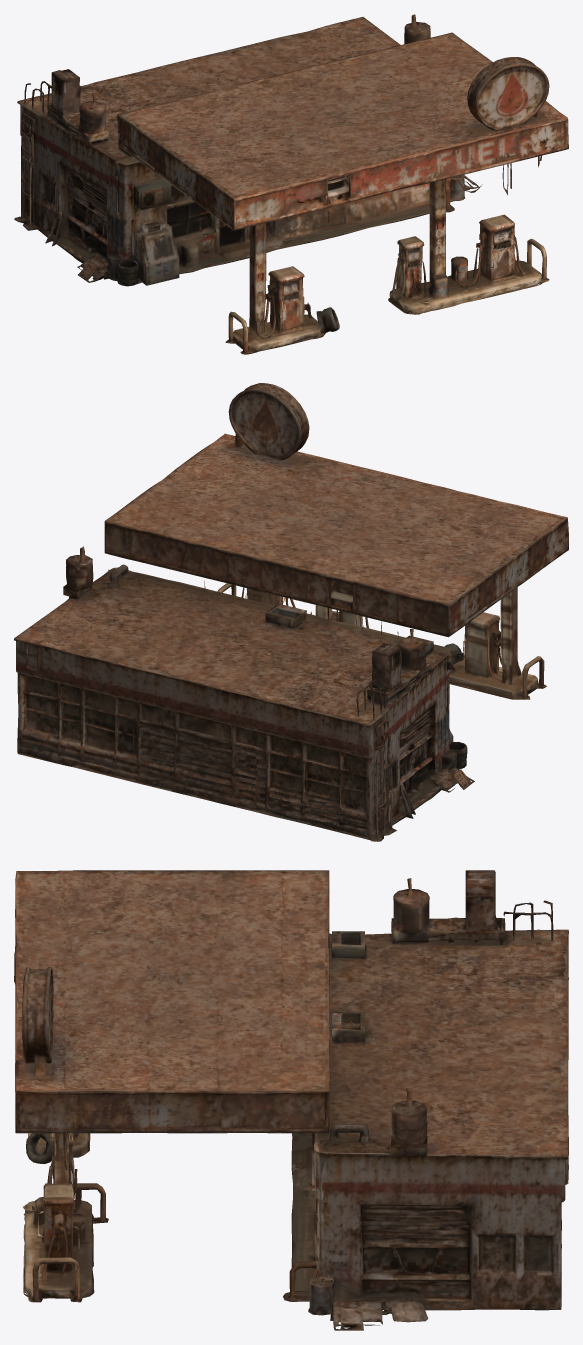
File: rusted gas station 3d model.glb
3 renders of one model, top to bottom at view 1: azimuth 30°, elevation 25°; view 2: azimuth 150°, elevation 25°; view 3: azimuth 270°, elevation 25°, orthographic. The views are drawn at different scales.
Visible parts, largest first — view 1: tripo_node_51ff78de-7e52-4158-be4b-d32142a179ee; view 2: tripo_node_51ff78de-7e52-4158-be4b-d32142a179ee; view 3: tripo_node_51ff78de-7e52-4158-be4b-d32142a179ee.
Part boxes in pixels (x1,y1,x2,y2): tripo_node_51ff78de-7e52-4158-be4b-d32142a179ee: [14, 14, 568, 354]; tripo_node_51ff78de-7e52-4158-be4b-d32142a179ee: [14, 383, 568, 841]; tripo_node_51ff78de-7e52-4158-be4b-d32142a179ee: [14, 870, 568, 1330].
Bounding box in the file's own units: 0.997 × 0.5514 × 0.9051.
Materials: 1 (1 with a texture image).
